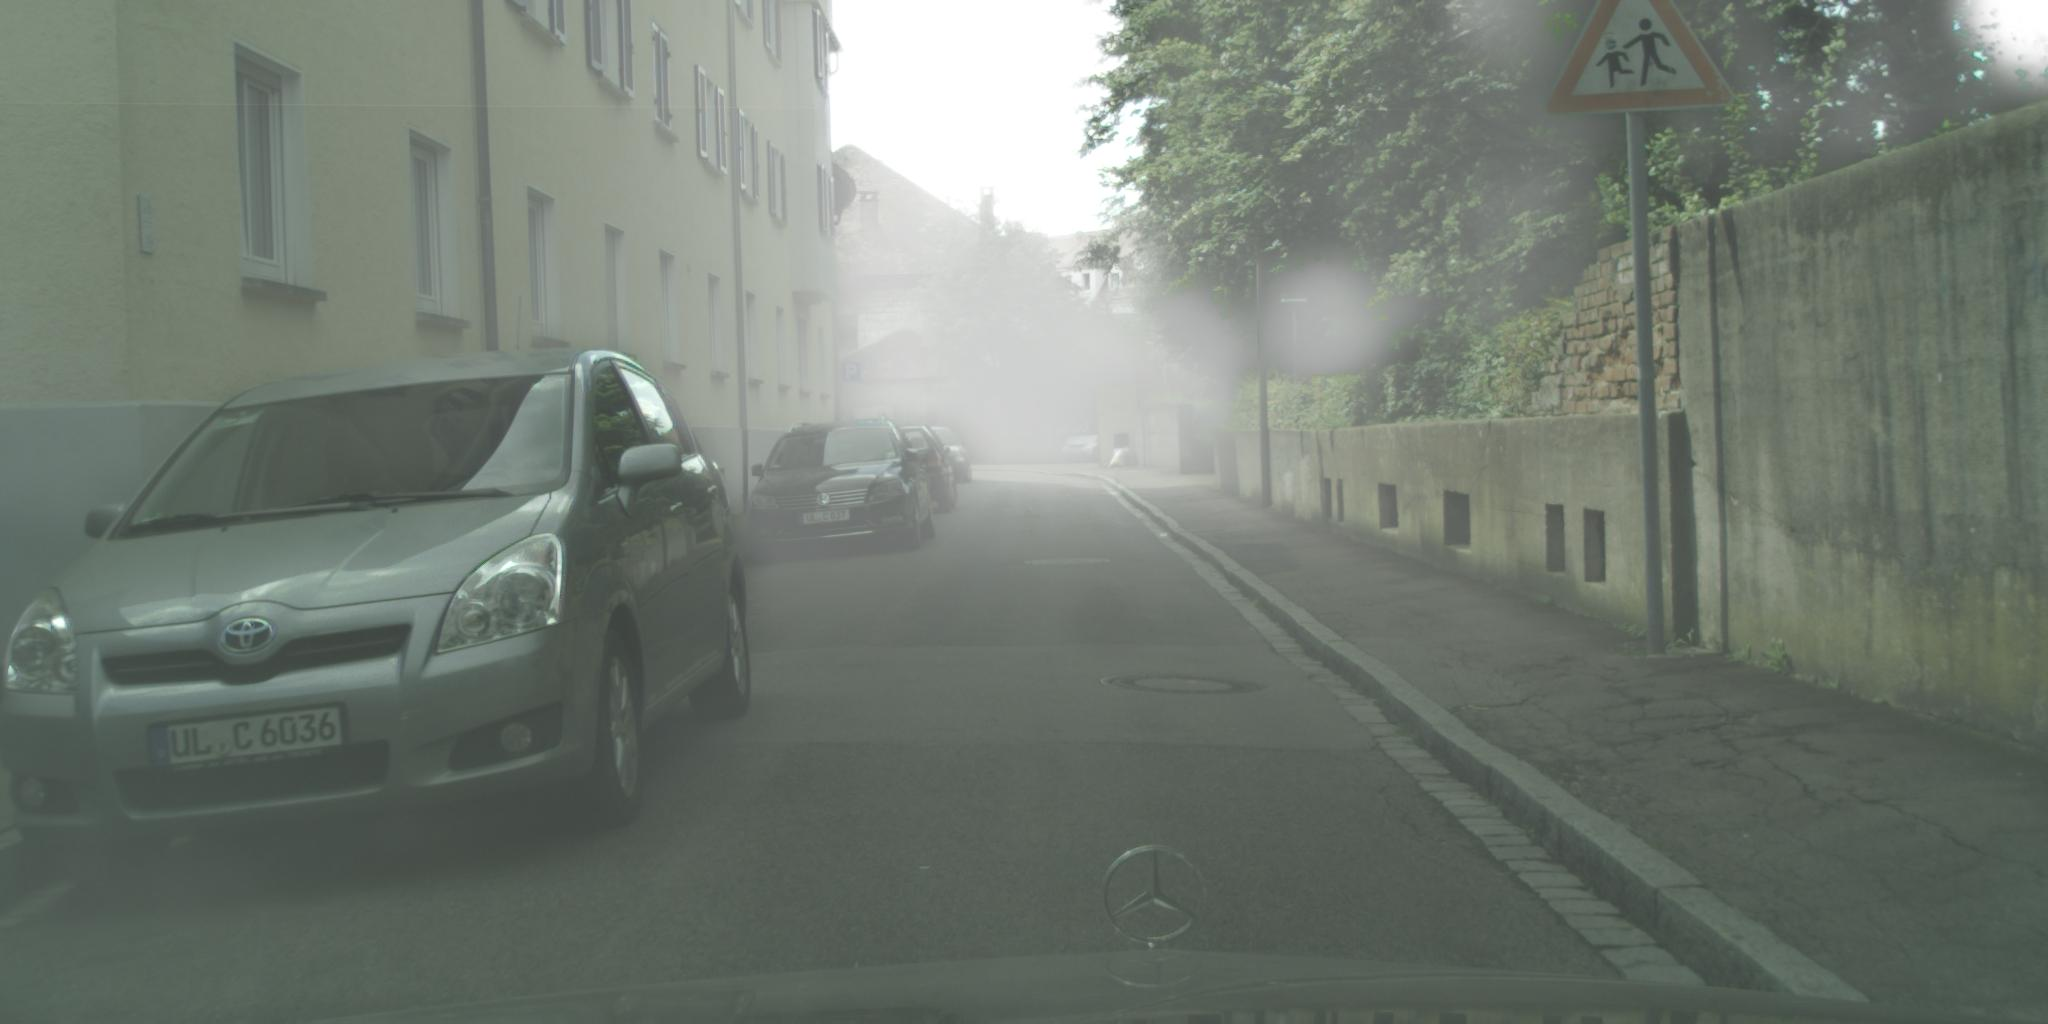car: (1, 347, 752, 893), (748, 415, 936, 566), (896, 426, 957, 515), (927, 428, 974, 483), (1062, 417, 1102, 464)
